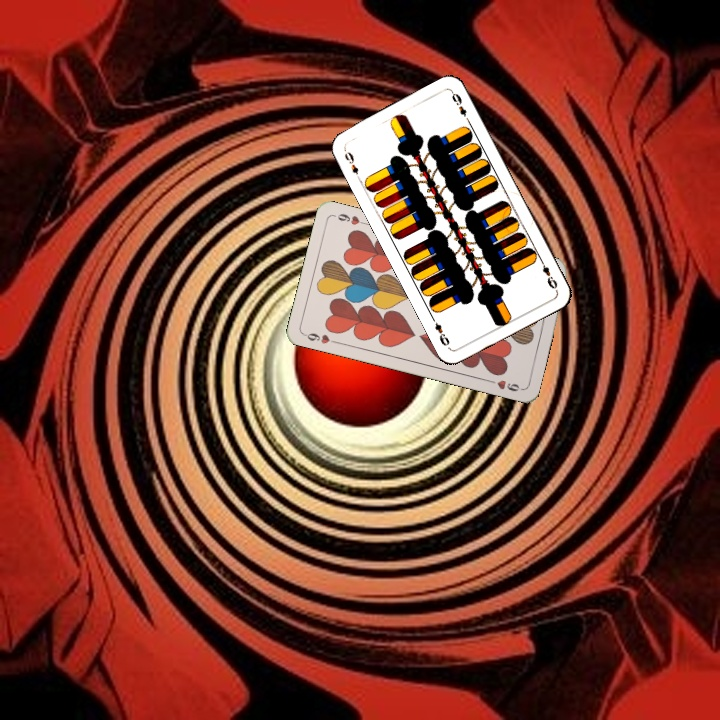E9: (536, 255, 560, 292), (340, 145, 363, 183)
H9: (300, 329, 340, 346)
